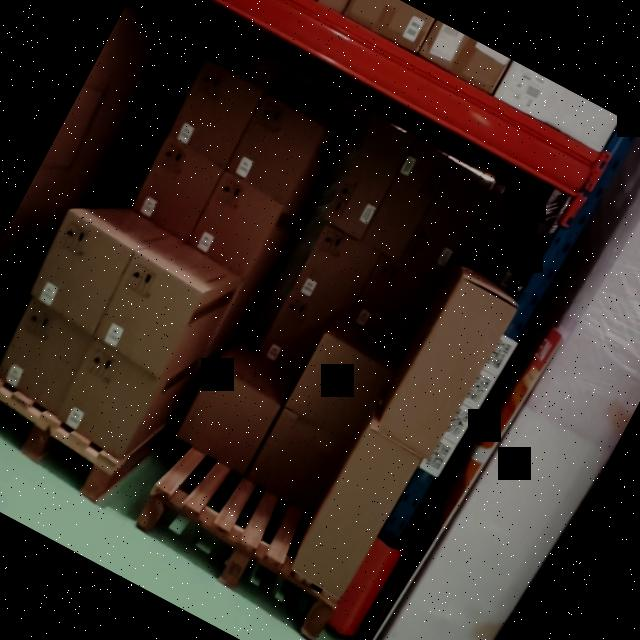box: (378, 275, 516, 460), (292, 425, 419, 601), (89, 252, 205, 377), (23, 215, 133, 334), (51, 342, 162, 454), (163, 64, 266, 175), (324, 120, 416, 241), (178, 363, 280, 472), (289, 334, 393, 440), (125, 139, 224, 245), (248, 411, 348, 514), (402, 164, 492, 276), (0, 304, 91, 410), (364, 143, 448, 256), (183, 178, 276, 278), (348, 254, 441, 352), (227, 102, 316, 198), (294, 223, 383, 315)
